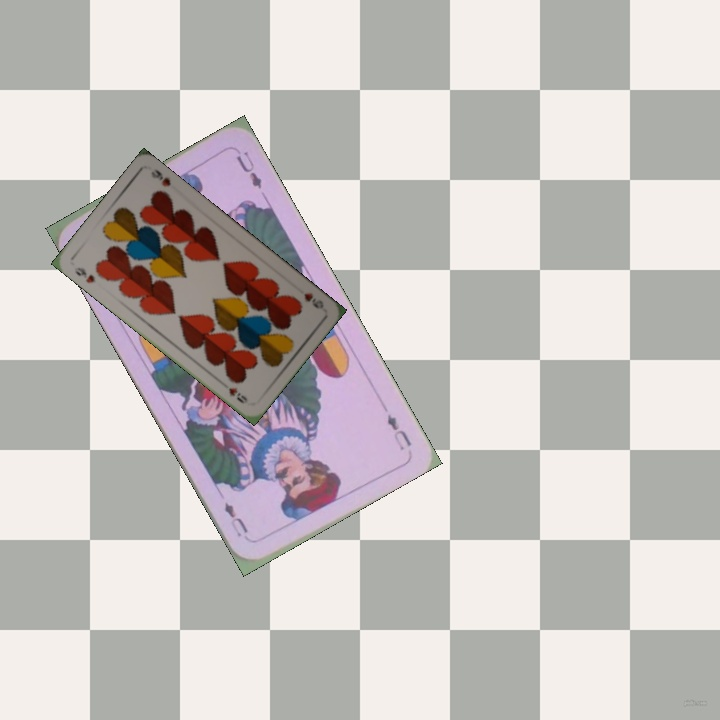EU: (382, 410, 415, 454)
H9: (70, 263, 99, 286), (300, 289, 326, 312)
